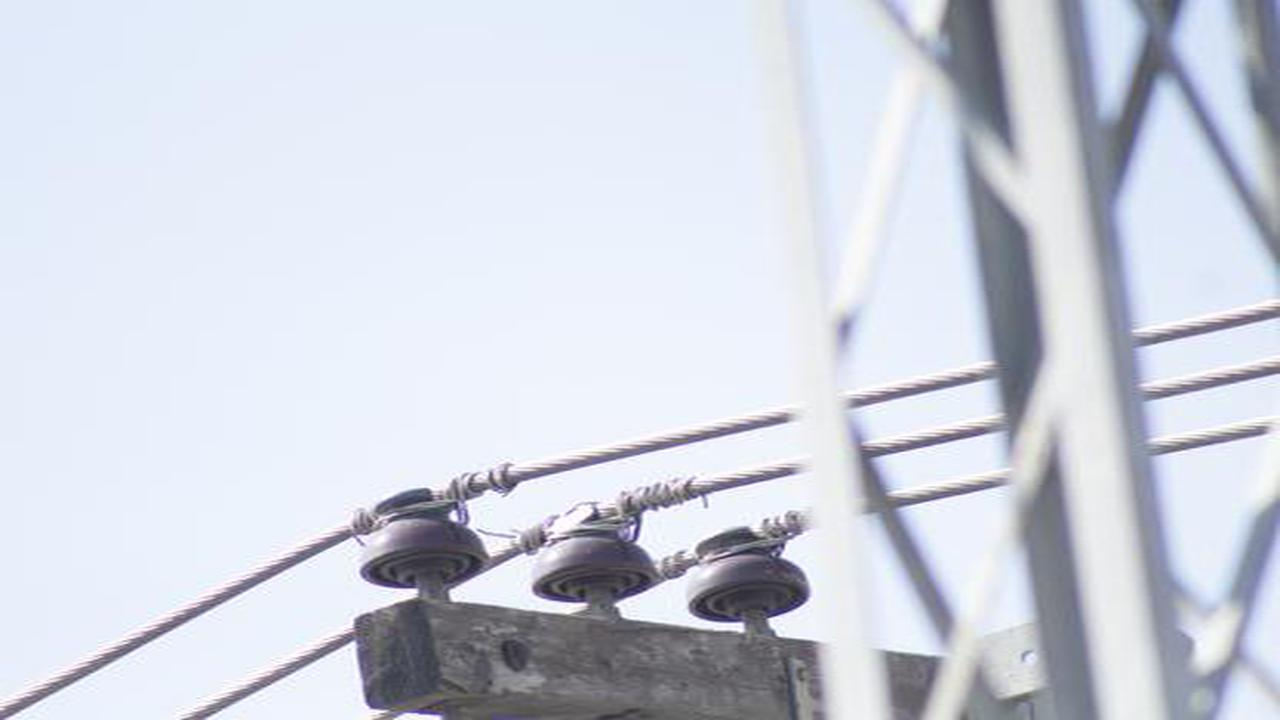insulator_pin: (357, 482, 493, 589), (528, 503, 660, 607), (688, 523, 817, 623)
